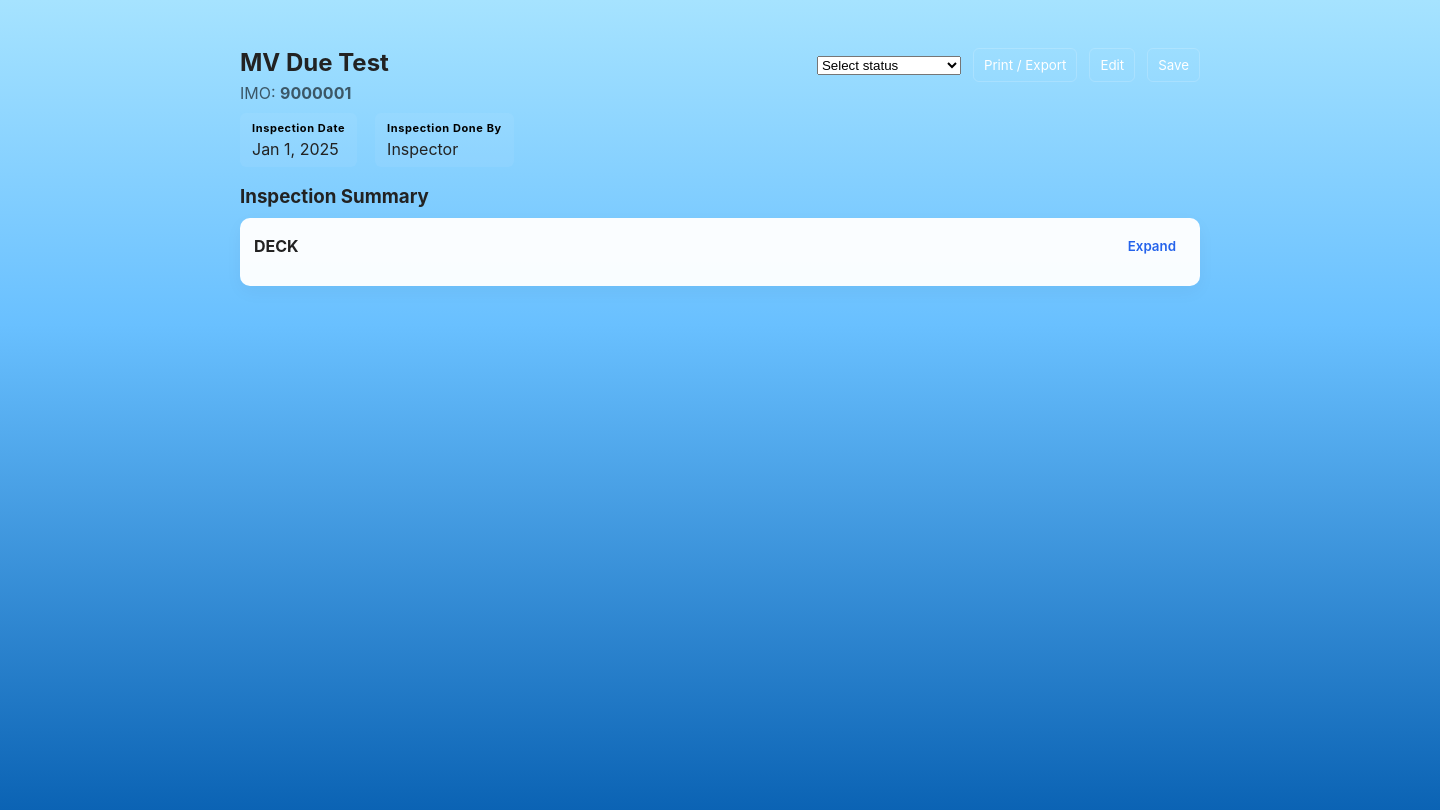
it: ReportPage › shows Due date and Required Action when provided
Expected: the heading "MV Due Test" is shown, 240,48 -> 389,77
Expected: the text "Replace bracket" is not shown
# expand the category and verify details become visible
Click the button "Expand": (1152, 246) 1118,232 -> 1186,260
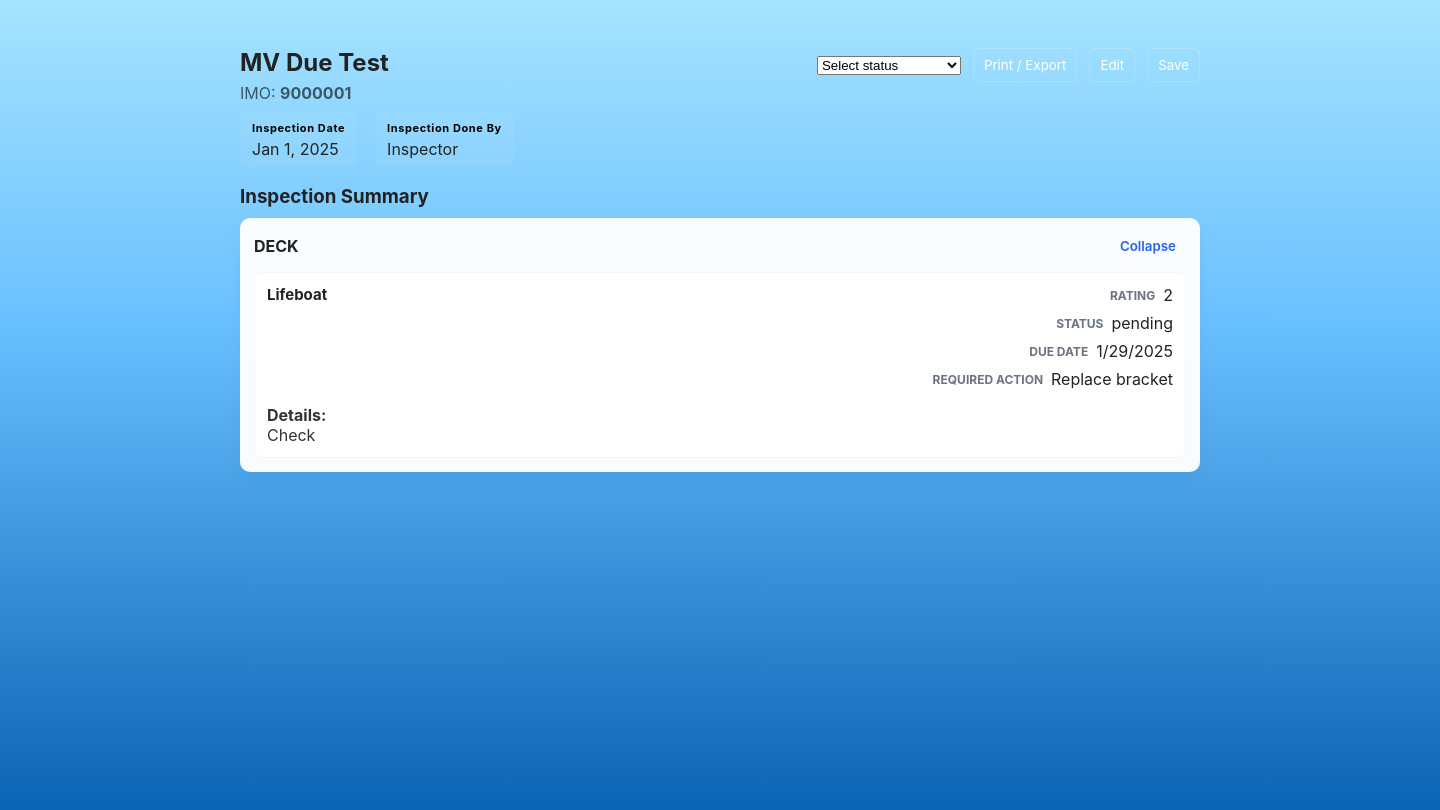
Expected: the text "Replace bracket" is shown, 1051,369 -> 1173,389
